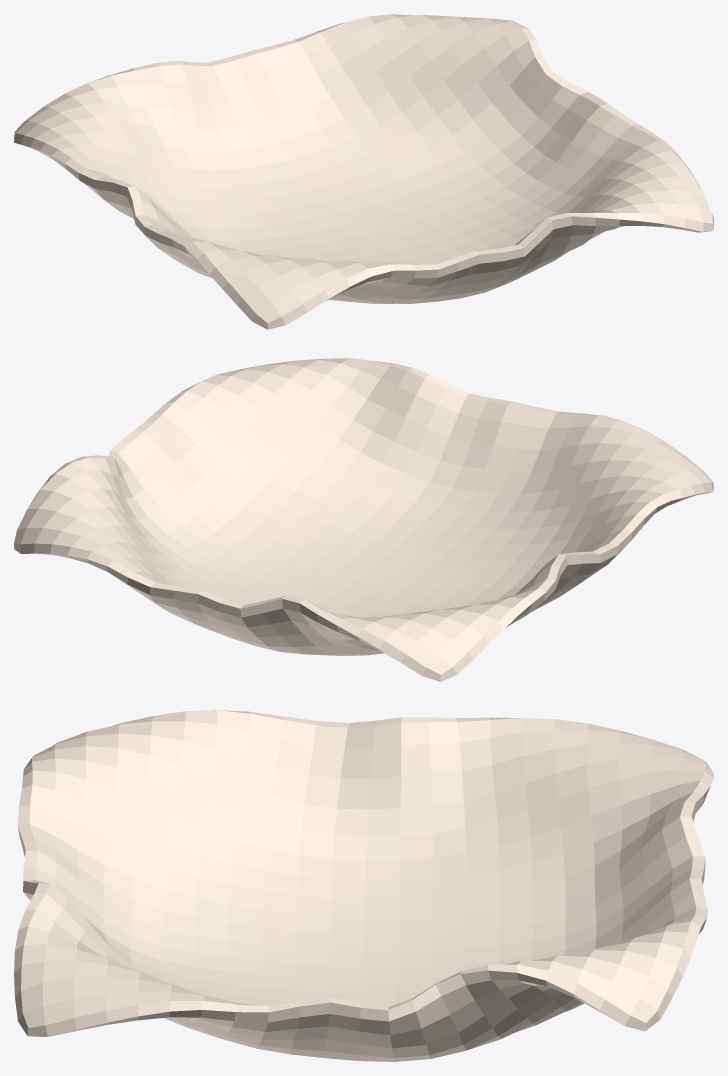
The model's file is 紙_塗色完成.fbx.
3 renders of one model, top to bottom at view 1: azimuth 30°, elevation 25°; view 2: azimuth 150°, elevation 25°; view 3: azimuth 270°, elevation 25°, orthographic. The views are drawn at different scales.
Parts seen in each view (by area): view 1: Plane.011; view 2: Plane.011; view 3: Plane.011.
Boxes of the visible parts, bbox=[...] form: Plane.011: bbox=[14, 14, 713, 329]; Plane.011: bbox=[14, 358, 713, 681]; Plane.011: bbox=[14, 710, 713, 1061].
Bounding box in the file's own units: 126 × 32 × 128.
